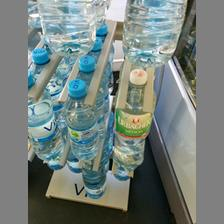Wasser: (120, 0, 186, 68), (114, 68, 154, 172), (35, 0, 95, 56), (27, 68, 61, 162), (61, 78, 99, 162)
